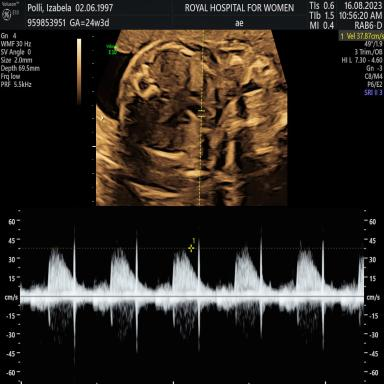Ultrasound-Waves: (27, 216, 362, 383)
